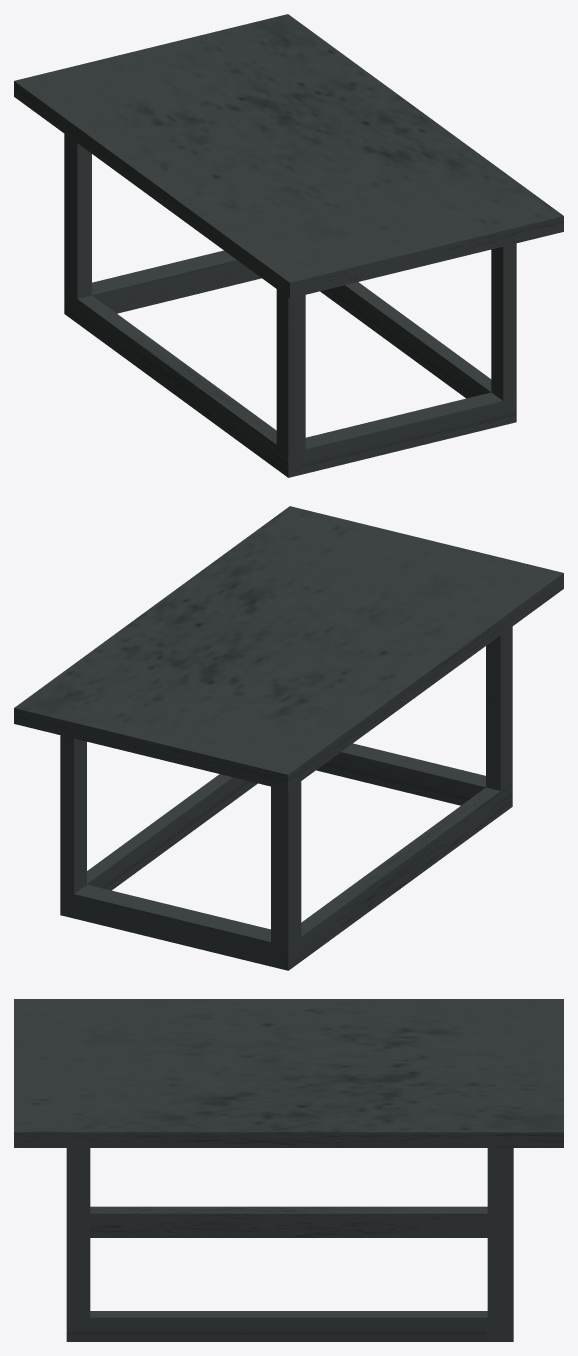
Rendered from metalTable.fbx.
3 renders of one model, top to bottom at view 1: azimuth 30°, elevation 25°; view 2: azimuth 150°, elevation 25°; view 3: azimuth 270°, elevation 25°, orthographic.
Parts seen in each view (by area): view 1: Cube.001; view 2: Cube.001; view 3: Cube.001.
Part boxes in pixels (bbox=[...]): Cube.001: bbox=[14, 14, 563, 477]; Cube.001: bbox=[14, 506, 563, 970]; Cube.001: bbox=[14, 999, 563, 1341].
Bounding box in the file's own units: 541 × 416 × 943.
Materials: 2 (2 with a texture image).
